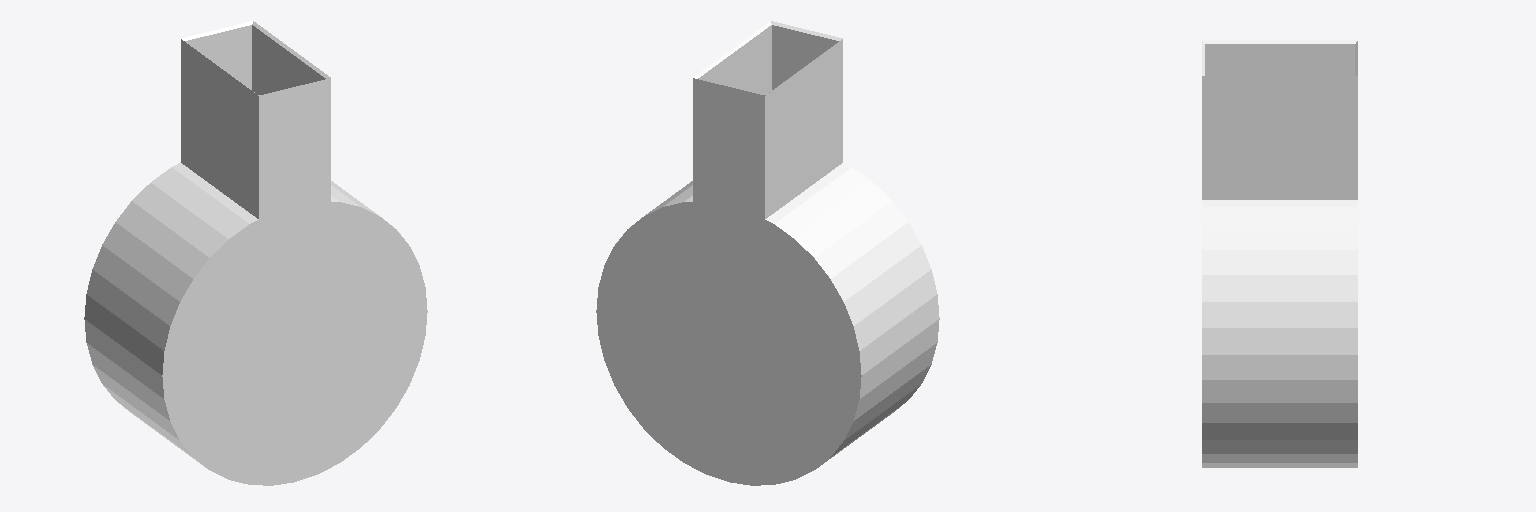
The model's file is Rotator_UVed.obj.
3 views of the same model, side by side, from view 1: azimuth 30°, elevation 25°; view 2: azimuth 150°, elevation 25°; view 3: azimuth 270°, elevation 25° (orthographic).
Parts seen in each view (by area): view 1: MainPart, TopPart; view 2: MainPart, TopPart; view 3: MainPart, TopPart.
Part boxes in pixels (x1,y1,x2,y2): MainPart: (84,162,427,485); TopPart: (181,21,330,218); MainPart: (596,162,939,485); TopPart: (693,21,842,218); MainPart: (1202,200,1357,467); TopPart: (1202,40,1357,199).
Bounding box in the file's own units: 2.04 × 2.91 × 1.04.